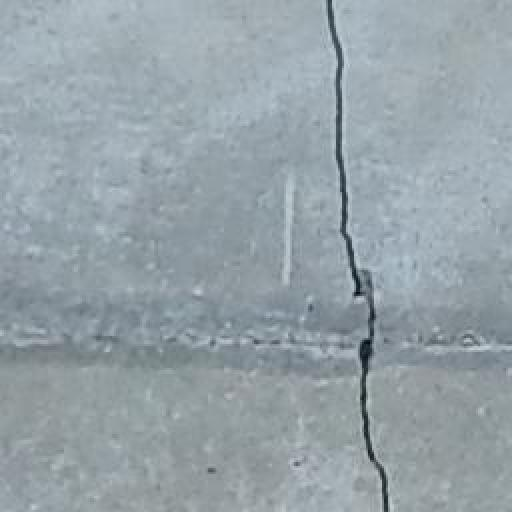spalling: (312, 7, 418, 511)
